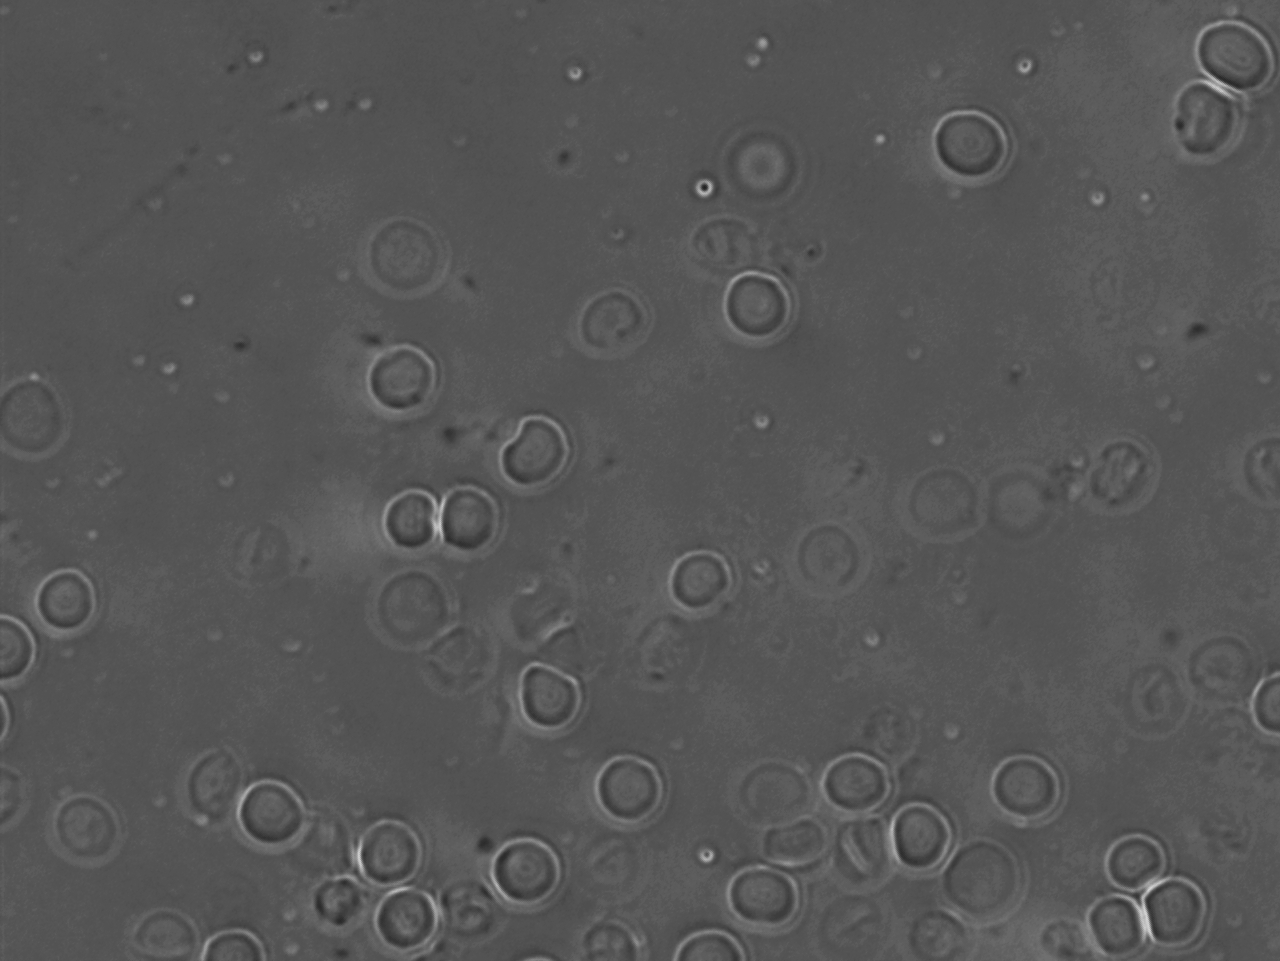depth:0: (982, 741, 1091, 838), (920, 90, 1018, 195), (1183, 9, 1280, 108), (1128, 855, 1229, 948), (359, 336, 455, 430), (709, 256, 802, 351), (476, 822, 576, 910), (586, 750, 683, 840), (495, 648, 593, 737), (366, 470, 460, 562), (652, 531, 742, 627), (426, 471, 517, 562), (229, 769, 326, 853), (21, 562, 112, 648), (878, 793, 970, 878), (491, 410, 578, 496), (722, 858, 819, 936), (1092, 815, 1181, 896), (348, 811, 436, 889), (816, 742, 901, 817)
